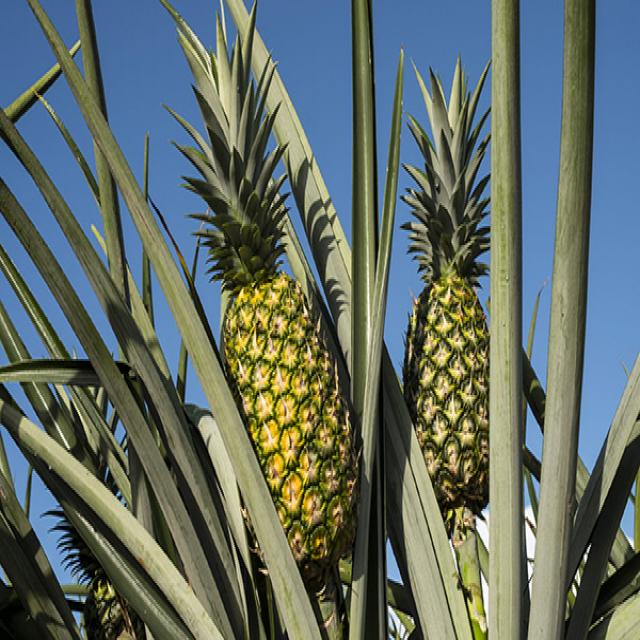pineapple: (176, 28, 358, 570), (408, 70, 488, 492)
